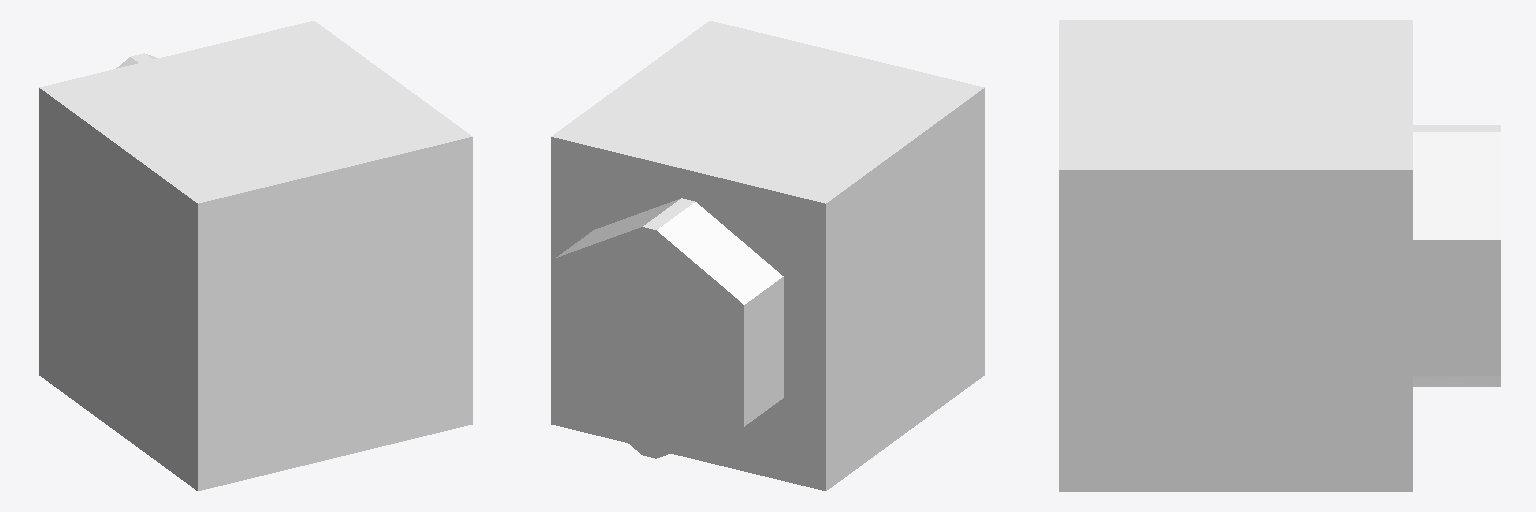
URDF robot description (Hexagon_cube_cap_preprocessed_convex):
<?xml version="1.0" ?>
<robot name="Hexagon_cube_cap_preprocessed_convex">
  <link name="baseLink">
    <contact>
    	<friction_anchor/>
    	   <lateral_friction value="1.0"/>
    </contact>
    <inertial>
      <origin rpy="0 0 0" xyz="0 0 0"/>
       <!-- mass controls penetration -->
       <mass value=".5"/>
       <inertia ixx="1e-4" ixy="0" ixz="0" iyy="1e-4" iyz="0" izz="1e-4"/>
    </inertial>
    <visual>
      <origin rpy="0 0 0" xyz="0 0 0"/>
      <geometry>
        <mesh filename="Hexagon_cube_cap_preprocessed_convex.obj"/>
      </geometry>
       <material name="white">
        <color rgba="1 1 1 1"/>
      </material>
    </visual>
    <collision>
      <origin rpy="0 0 0" xyz="0 0 0"/>
      <geometry>
        <mesh filename="Hexagon_cube_cap_preprocessed_convex.obj"/>
      </geometry>
    </collision>
  </link>
</robot>

--- Render facts (derived) ---
Views: 3 orthographic renders of the robot side by side, from view 1: azimuth 30°, elevation 25°; view 2: azimuth 150°, elevation 25°; view 3: azimuth 270°, elevation 25°.
Model Hexagon_cube_cap_preprocessed_convex with 1 links and 0 joints (none), rooted at baseLink, posed every joint at zero.
Links seen in each view (by area): view 1: baseLink; view 2: baseLink; view 3: baseLink.
Link boxes in pixels (<box>): baseLink: <box>39,21,472,490</box>; baseLink: <box>551,21,984,490</box>; baseLink: <box>1059,20,1500,491</box>.
Size in the robot's own frame: 0.0808 by 0.1008 by 0.0808 metres.
1 mesh visuals loaded from 1 distinct referenced files (1 OBJ).